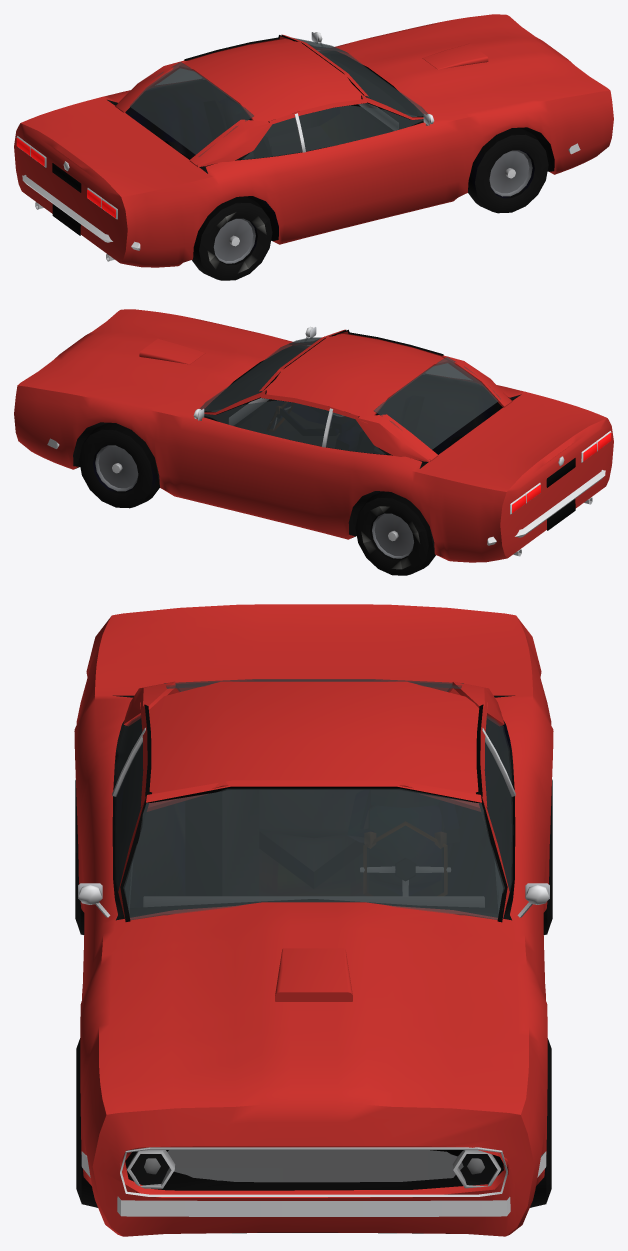
File: sv_stallion_race.glb
3 renders of one model, top to bottom at view 1: azimuth 30°, elevation 25°; view 2: azimuth 150°, elevation 25°; view 3: azimuth 270°, elevation 25°, orthographic. The views are drawn at different scales.
Parts seen in each view (by area): view 1: body, glass, tyre_FR, tyre_RR, window_R, interior, rim_FR, rim_RR, taillight_lens, driver; view 2: body, glass, tyre_FL, tyre_RL, window_L, interior, rim_FL, rim_RL, driver, taillight_lens; view 3: body, glass, interior, driver, window_R, window_L, steering_wheel, tyre_FR, tyre_FL.
Part boxes in pixels (x1,y1,x2,y2): body: [14, 14, 613, 267]; glass: [129, 38, 427, 159]; tyre_FR: [468, 128, 548, 213]; tyre_RR: [192, 196, 272, 280]; window_R: [299, 105, 423, 151]; interior: [163, 58, 417, 159]; rim_FR: [489, 150, 532, 196]; rim_RR: [213, 218, 255, 263]; taillight_lens: [16, 137, 115, 218]; driver: [219, 94, 246, 128]; body: [14, 309, 613, 562]; glass: [200, 337, 500, 454]; tyre_FL: [79, 423, 159, 508]; tyre_RL: [355, 491, 435, 575]; window_L: [204, 400, 328, 446]; interior: [210, 353, 464, 454]; rim_FL: [95, 445, 138, 491]; rim_RL: [372, 513, 413, 558]; driver: [276, 406, 362, 450]; taillight_lens: [512, 432, 611, 513]; body: [74, 604, 553, 1236]; glass: [116, 679, 511, 1185]; interior: [129, 790, 498, 914]; driver: [347, 790, 459, 895]; window_R: [115, 742, 143, 908]; window_L: [484, 742, 512, 908]; steering_wheel: [360, 821, 450, 895]; tyre_FR: [76, 1038, 97, 1207]; tyre_FL: [530, 1038, 551, 1207].
Size of the model in its own units: 4.75 by 1.35 by 1.96.
